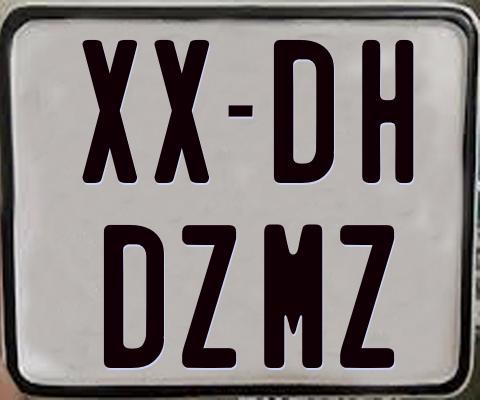D: (102, 224, 165, 371), (273, 40, 336, 184)
H: (360, 37, 415, 183)
M: (264, 222, 328, 371)
X: (81, 40, 141, 187), (154, 38, 213, 186)
Z: (181, 223, 240, 366), (337, 222, 394, 367)
